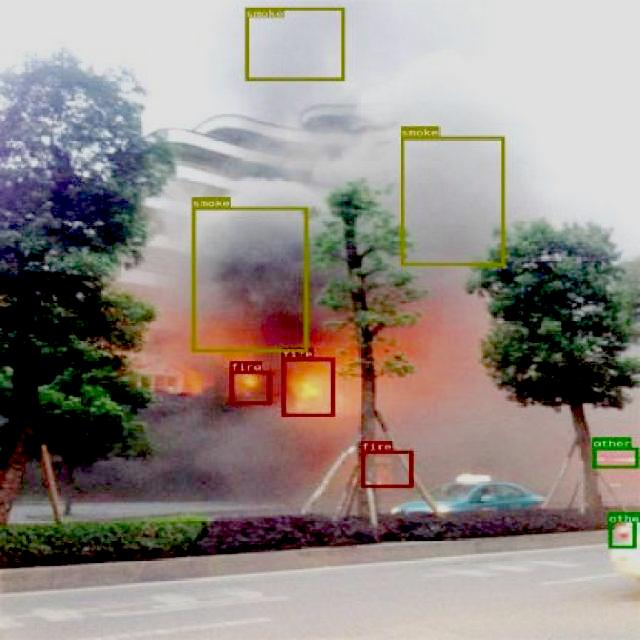fire: (280, 358, 334, 416), (360, 450, 412, 487), (229, 370, 271, 404)
smoke: (191, 206, 307, 352), (399, 137, 504, 266), (245, 6, 344, 80)
